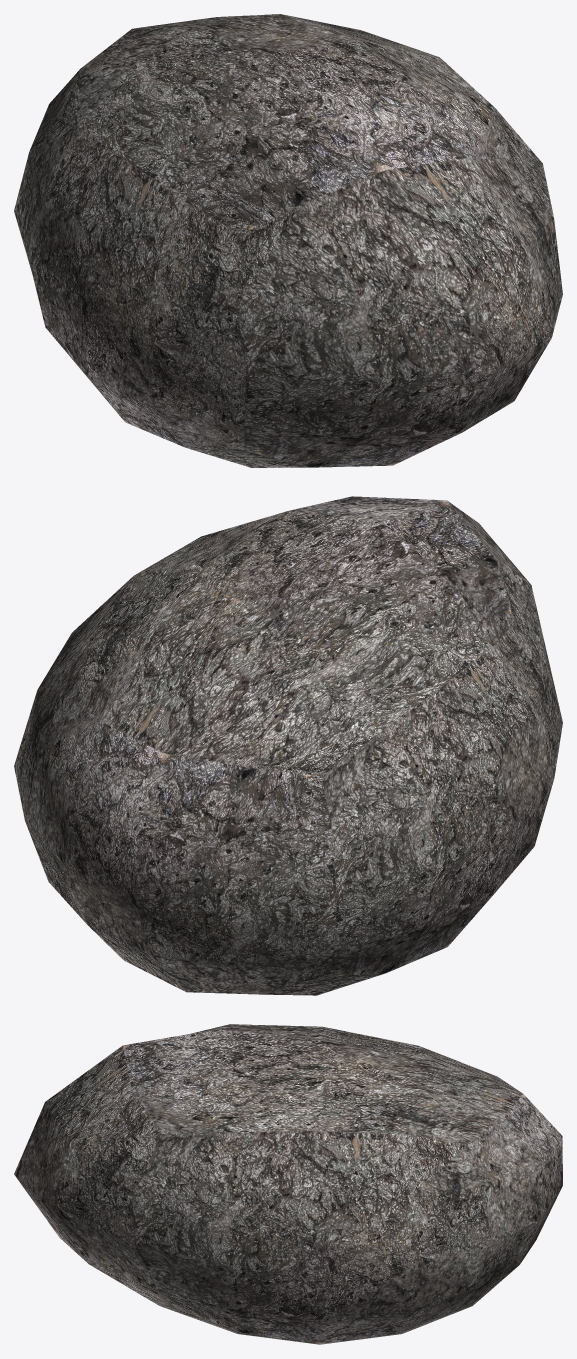
File: Stone1.fbx
3 views of the same model, one above another, from view 1: azimuth 30°, elevation 25°; view 2: azimuth 150°, elevation 25°; view 3: azimuth 270°, elevation 25° (orthographic). The views are drawn at different scales.
Parts seen in each view (by area): view 1: Stone1; view 2: Stone1; view 3: Stone1.
Part boxes in pixels (left/top/right/bottom): Stone1: left=14, top=14, right=562, bottom=467; Stone1: left=14, top=496, right=562, bottom=995; Stone1: left=14, top=1024, right=562, bottom=1344.
Bounding box in the file's own units: 2.59 × 2.14 × 3.68.
1 material, 1 textured.
